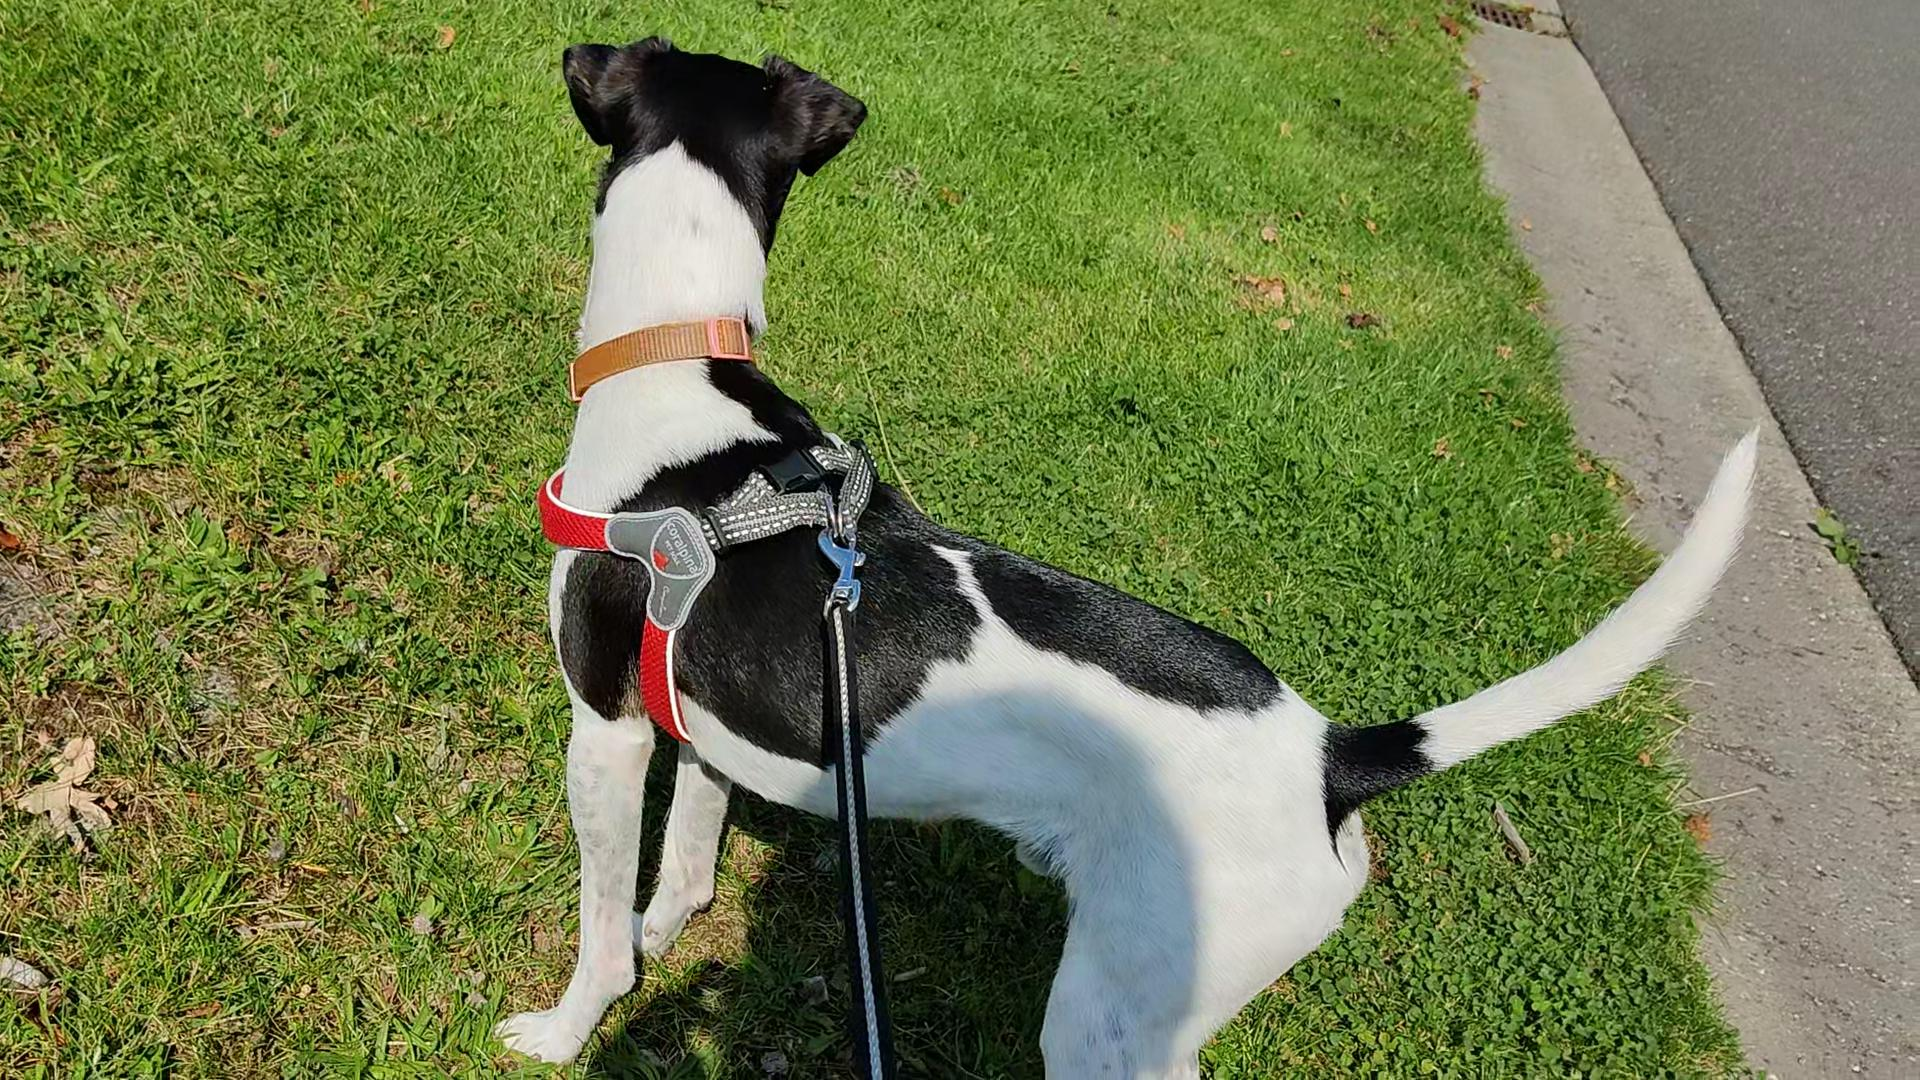Dog: (479, 9, 1763, 1079)
